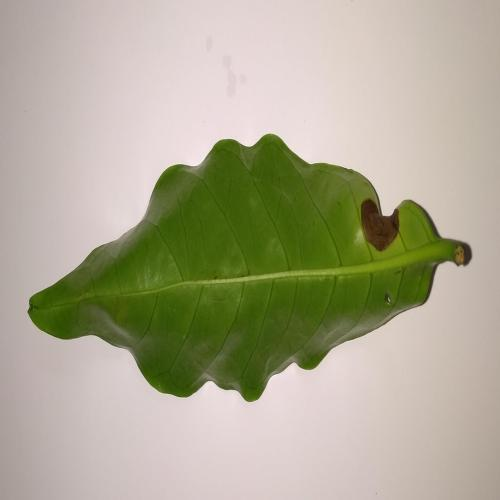miner: (361, 199, 399, 249)
